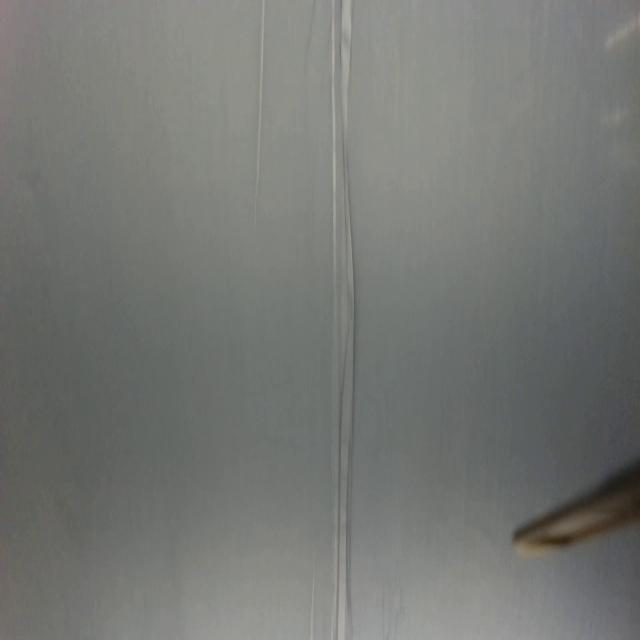crease: (331, 0, 358, 640), (253, 6, 268, 233)
